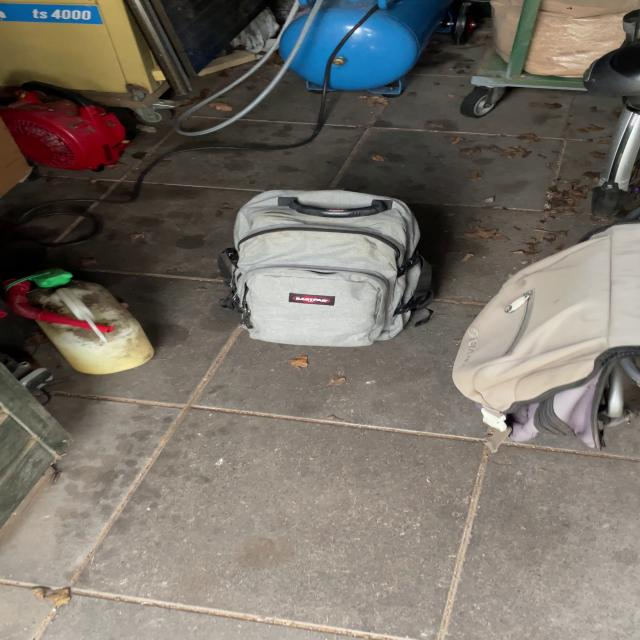backpack: (210, 183, 446, 353)
